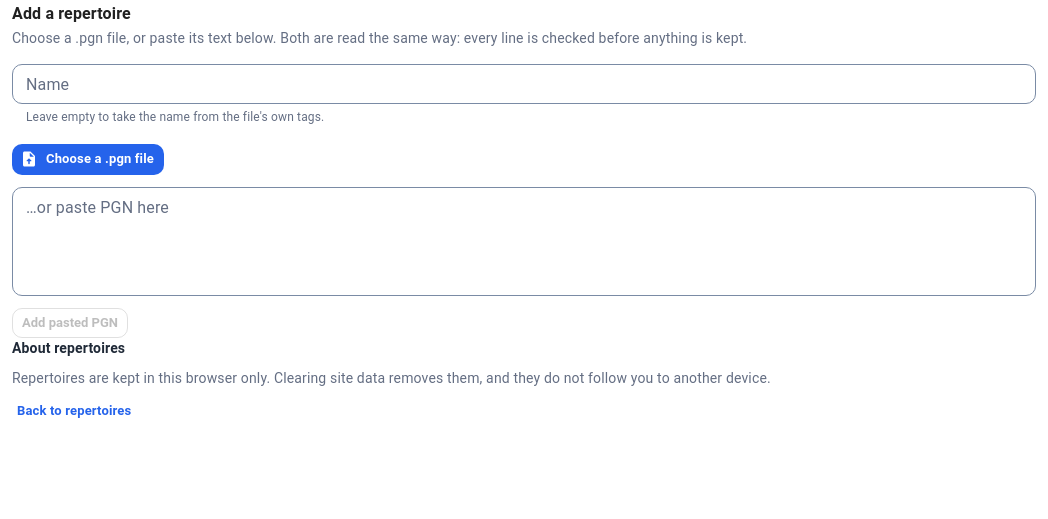
adding a repertoire — accessible › is its page's h1, and reads a paste from the keyboard
This screenshot has width=1048, height=519.
Expected: the heading "Add a repertoire" is shown, [12,4,131,23]
Click the text box labelled "…or paste PGN here" at (524, 241), box [26,195,1022,287]
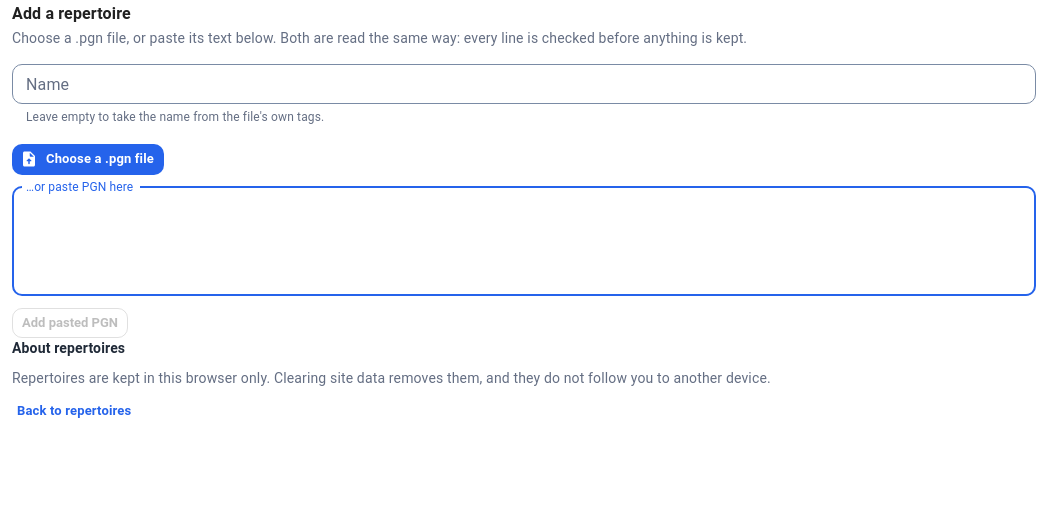
Type keys "not a game at all"
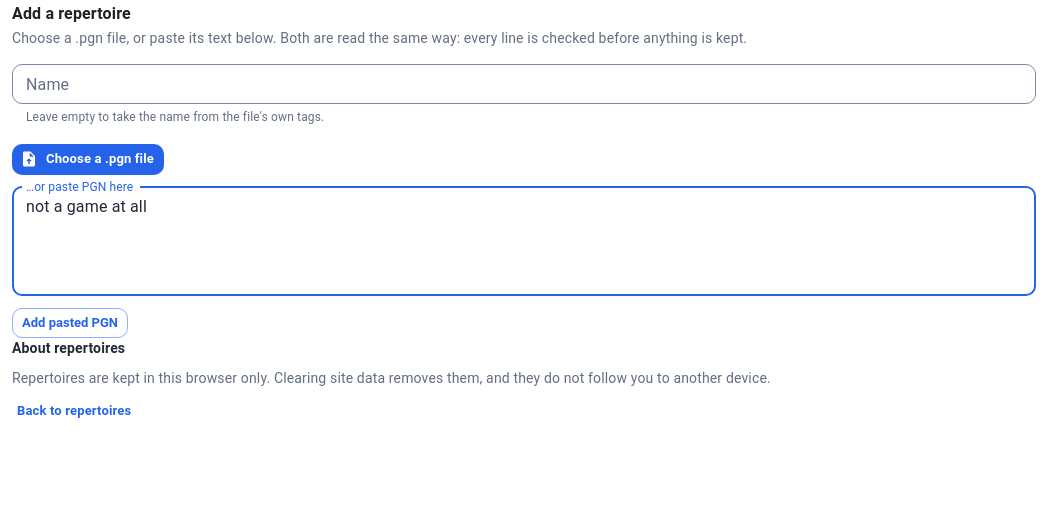
Type keys "{Control>}{Enter}{/Control}"
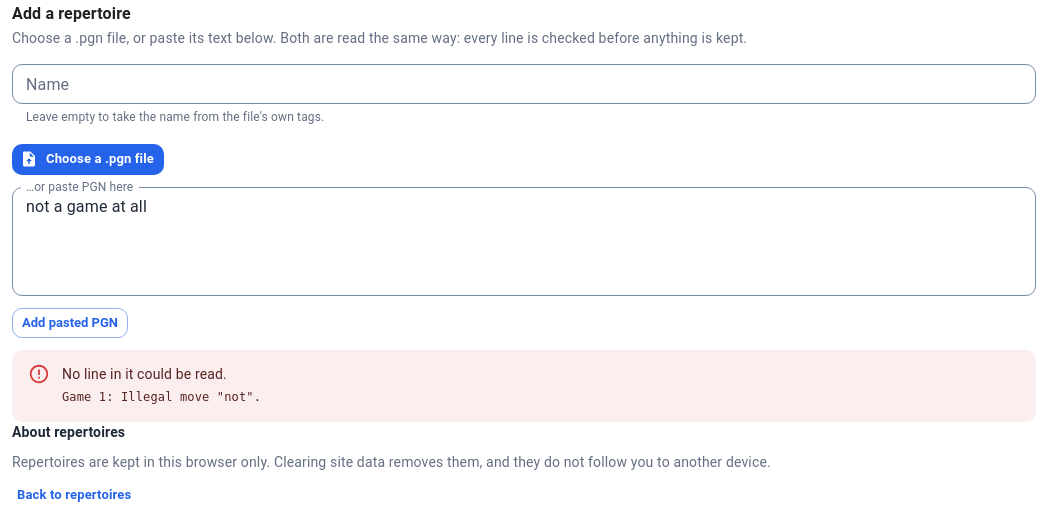
Expected: the message "No line in it could be read. Game 1: Illegal move \"not\"." is shown, [12,350,1036,422]
